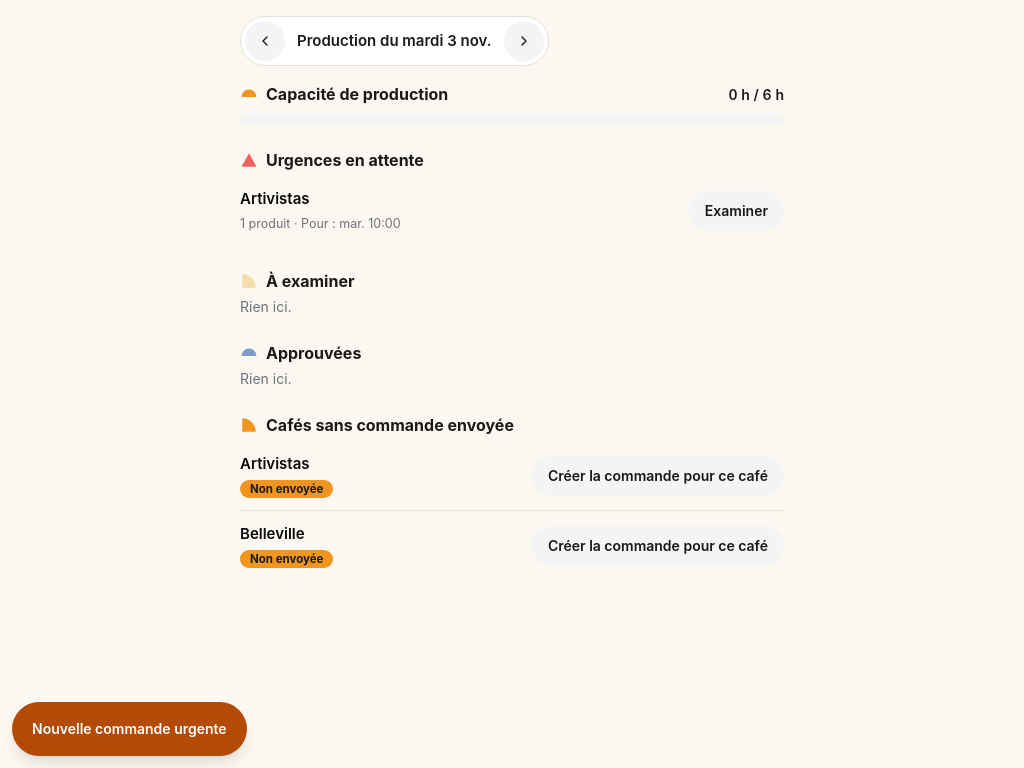
Test: StoresReview › falls back to the round's capacity when the order is outside the occurrence window
Click the button "Examiner".
click(736, 211)  # box x1=689 y1=191 x2=784 y2=231
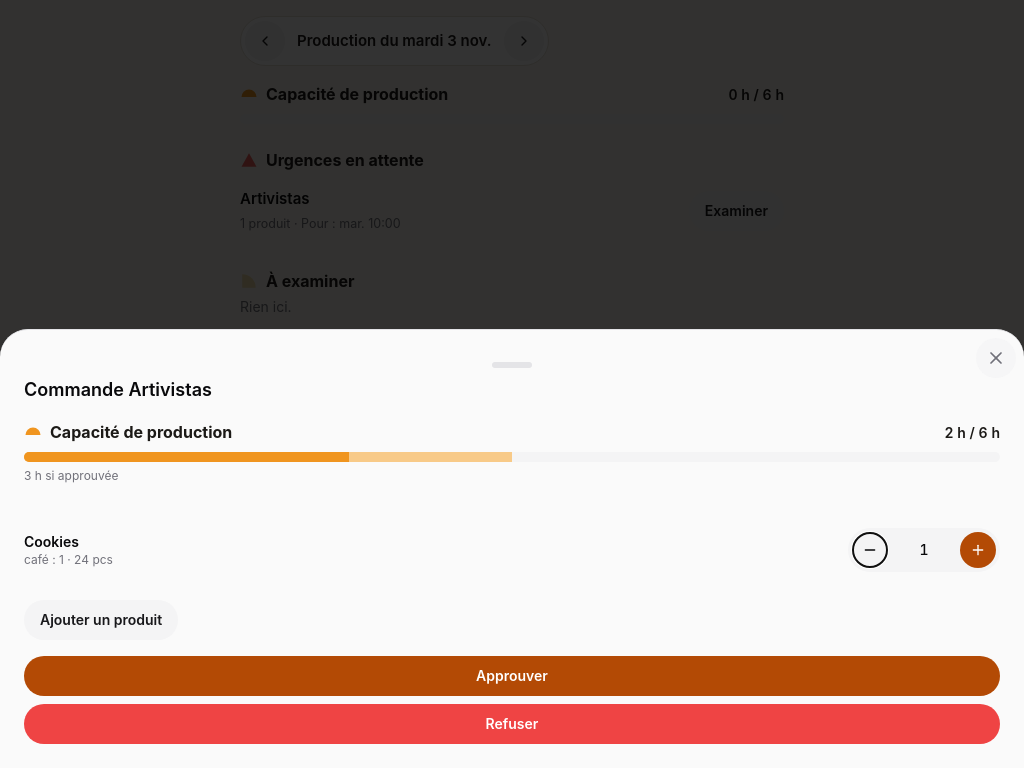
Result: the text "2 h / 6 h" is shown at x1=944 y1=422 x2=1000 y2=442
